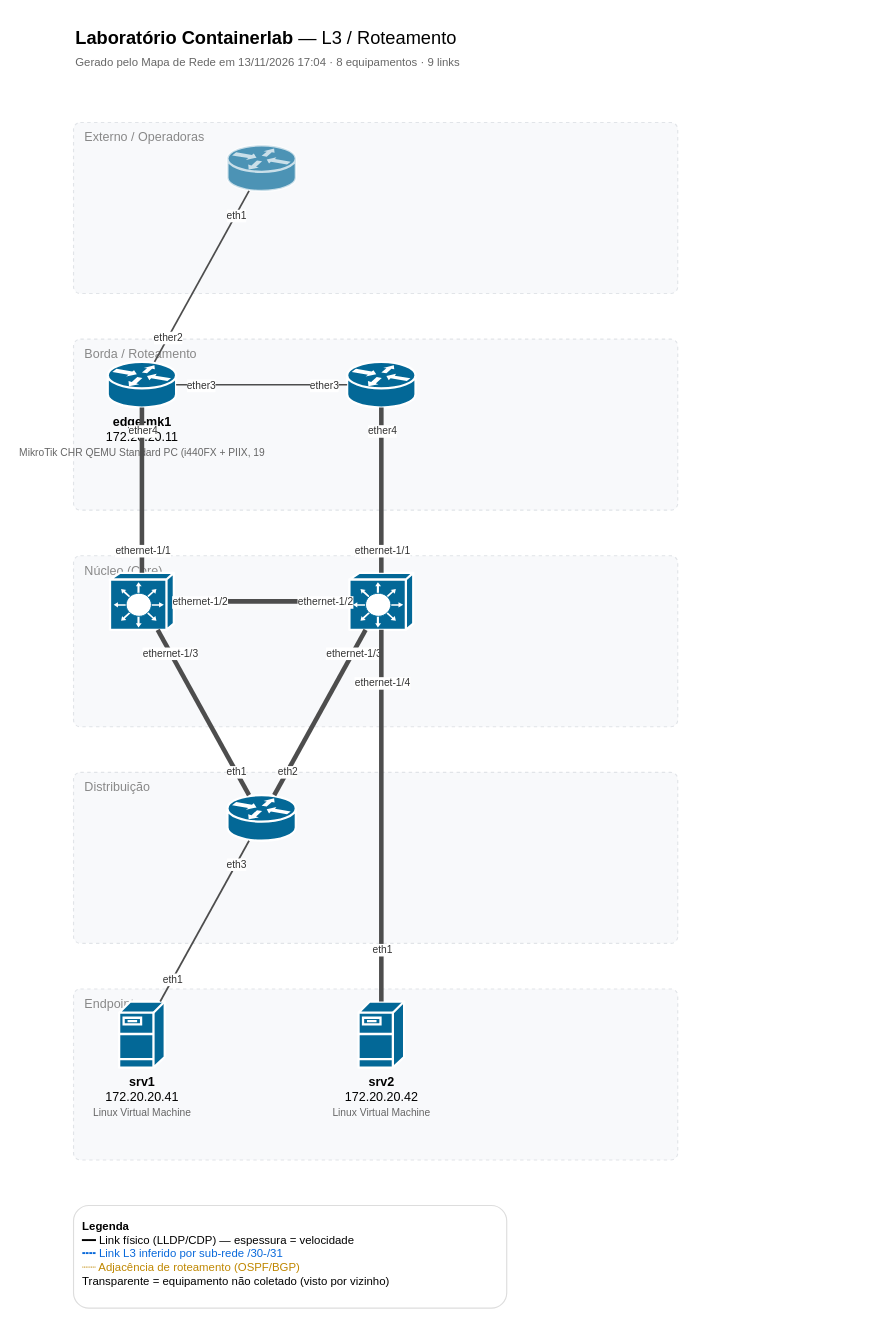
The diagram is 891 pixels wide and 1328 high, and some of its shapes have lost their labels. The shapes that lost their labels are listed below. From the top down, each one's centre as x and y in pixels, then its label:
point 261,168: isp-pe 172.20.20.2 Linux
point 380,384: edge-mk2 172.20.20.12 MikroTik CHR QEMU Standard PC (i440FX + PIIX, 19
point 141,600: core-srl1 172.20.20.21 Nokia 7220 IXR-D2L
point 381,600: core-srl2 172.20.20.22 Nokia 7220 IXR-D2L
point 261,817: dist-frr1 172.20.20.31 Linux Virtual Machine
